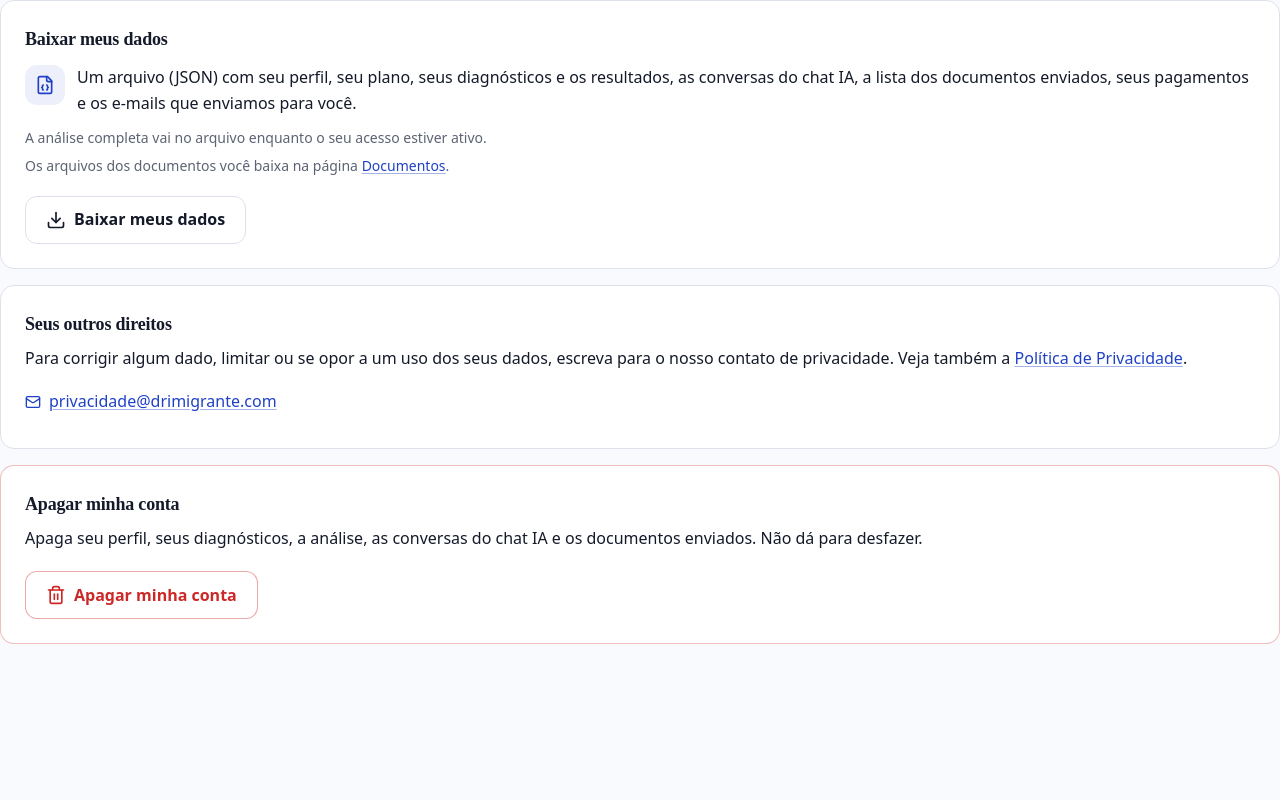
Scenario: PrivacyPanel — apagar a conta › assinante: avisa que a assinatura é cancelada na hora
Click the button with test id "privacy-delete-open".
click(141, 595)  # box [25,571,258,619]
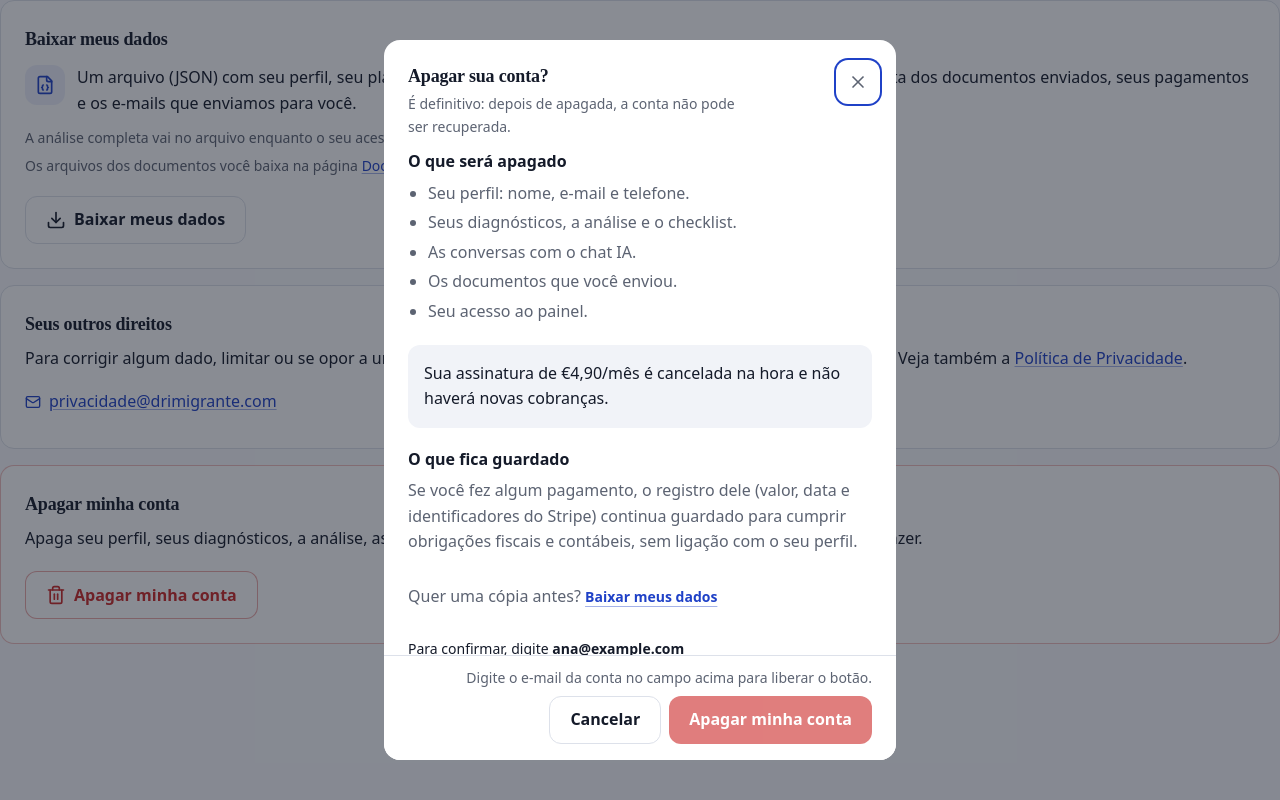
Check: the text with test id "delete-account-recurring" shows "€4,90/mês", box [561,362,640,384]
